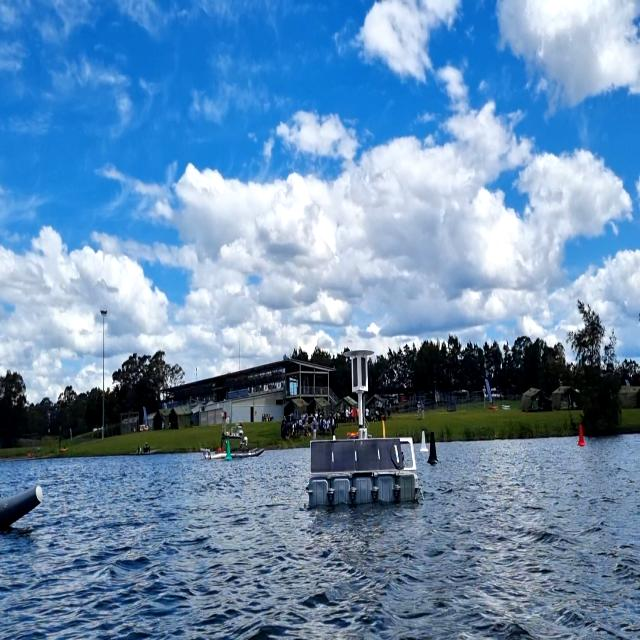led: (352, 357, 359, 388), (360, 356, 366, 387)
